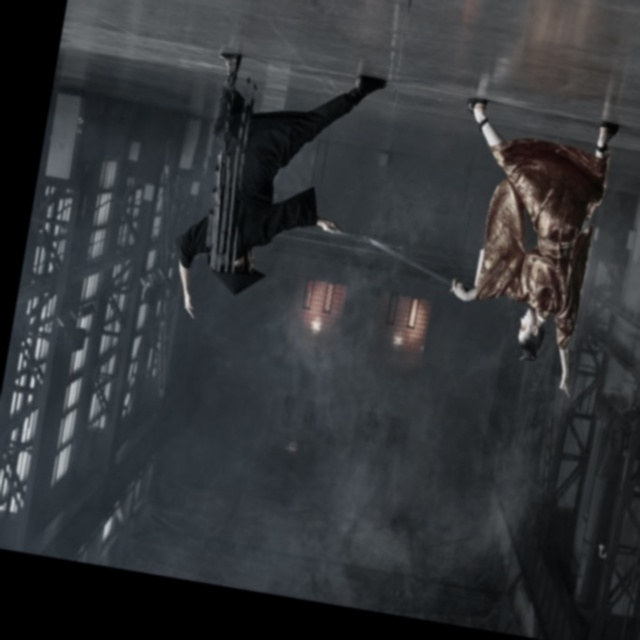Sharp-Object: (354, 218, 472, 311)
